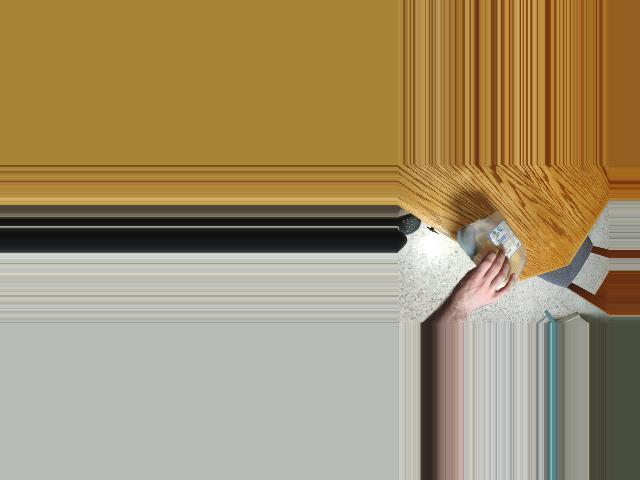cheese: (466, 209, 531, 294)
